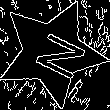N_NW: (20, 23, 84, 82)
